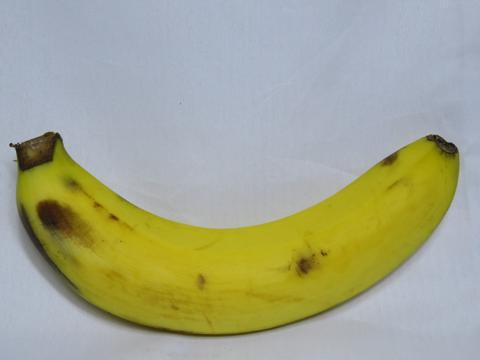freshripe: (10, 111, 473, 345)
